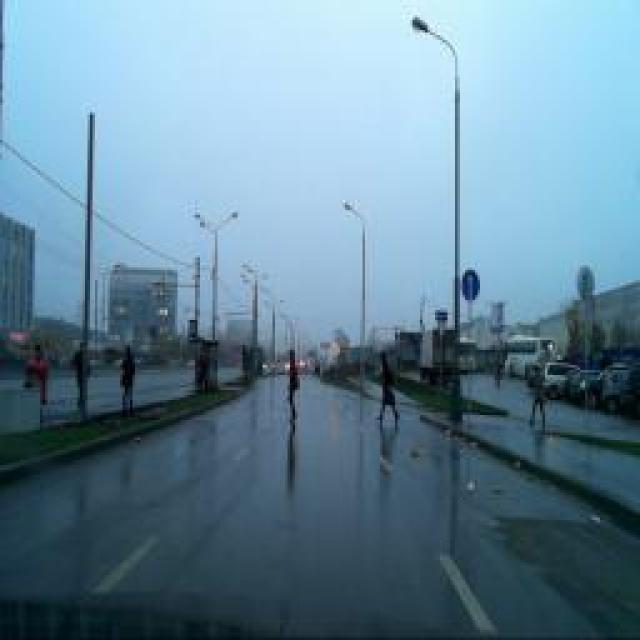sign: (461, 269, 479, 301)
